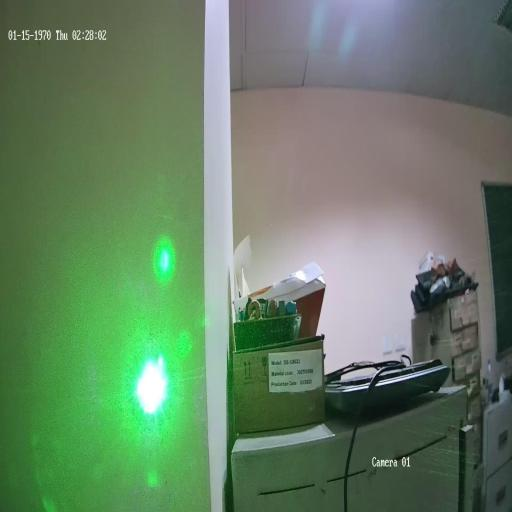laser: (128, 336, 170, 420)
